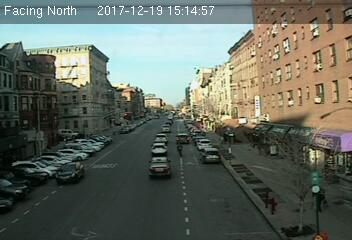car: (55, 161, 84, 184), (148, 155, 172, 179), (201, 148, 220, 162), (151, 142, 167, 154), (176, 132, 189, 144), (153, 133, 167, 142)
